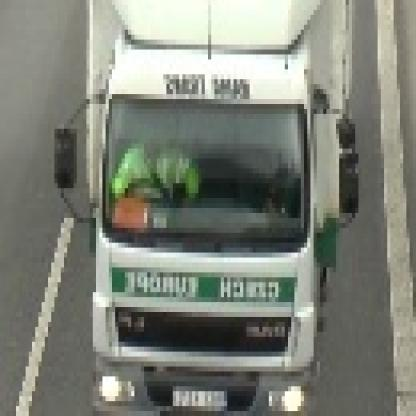truck: (56, 1, 357, 407)
